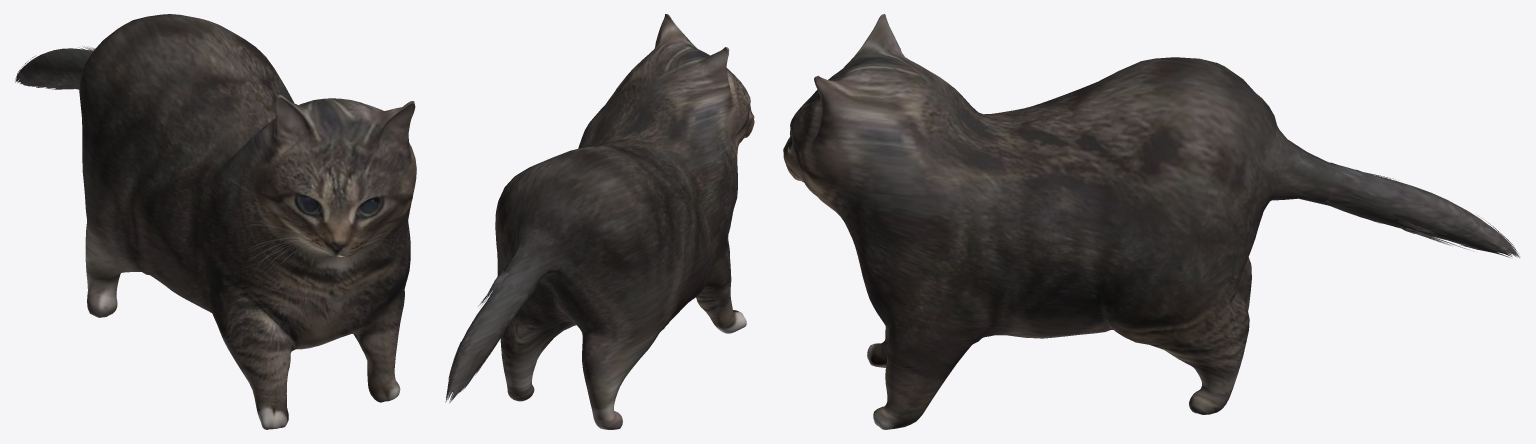
The model's file is oiiaioooooiai-cat.glb.
The picture shows the model from 3 angles, left to right: view 1: azimuth 30°, elevation 25°; view 2: azimuth 150°, elevation 25°; view 3: azimuth 270°, elevation 25°; orthographic projection. The views are drawn at different scales.
Parts seen in each view (by area): view 1: cat; view 2: cat; view 3: cat.
Part boxes in pixels (left/top/right/bottom): cat: left=15, top=14, right=416, bottom=429; cat: left=445, top=14, right=754, bottom=429; cat: left=783, top=14, right=1519, bottom=429.
Bounding box in the file's own units: 0.2392 × 0.3866 × 0.7242.
1 material, 1 textured.
